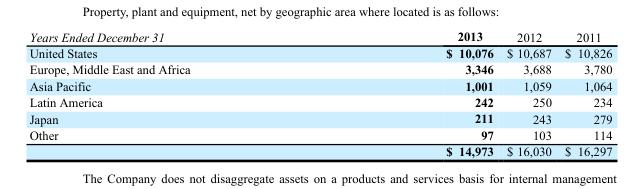table: (28, 29, 611, 158)
table column: (28, 29, 317, 158), (317, 29, 499, 158), (499, 29, 557, 158), (557, 29, 611, 158)
table column header: (28, 29, 611, 44)
table row: (28, 60, 611, 77), (28, 93, 611, 110), (28, 44, 611, 60), (28, 77, 611, 93), (28, 110, 611, 126), (28, 126, 611, 142), (28, 142, 611, 158), (28, 29, 611, 44)
